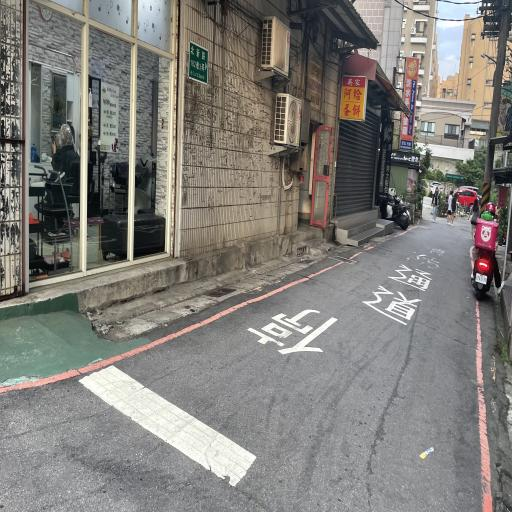redline: (2, 207, 417, 410), (471, 293, 498, 512), (464, 237, 480, 279)
